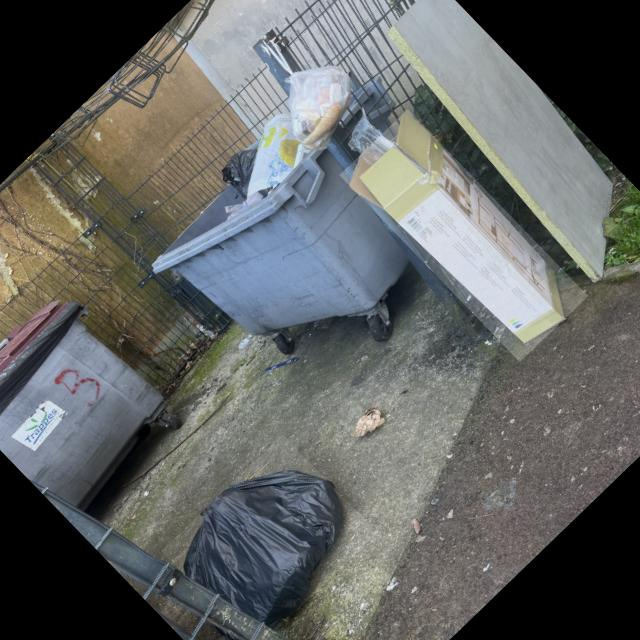Garbage bag: (184, 471, 344, 627)
Other Carton: (351, 112, 566, 343)
